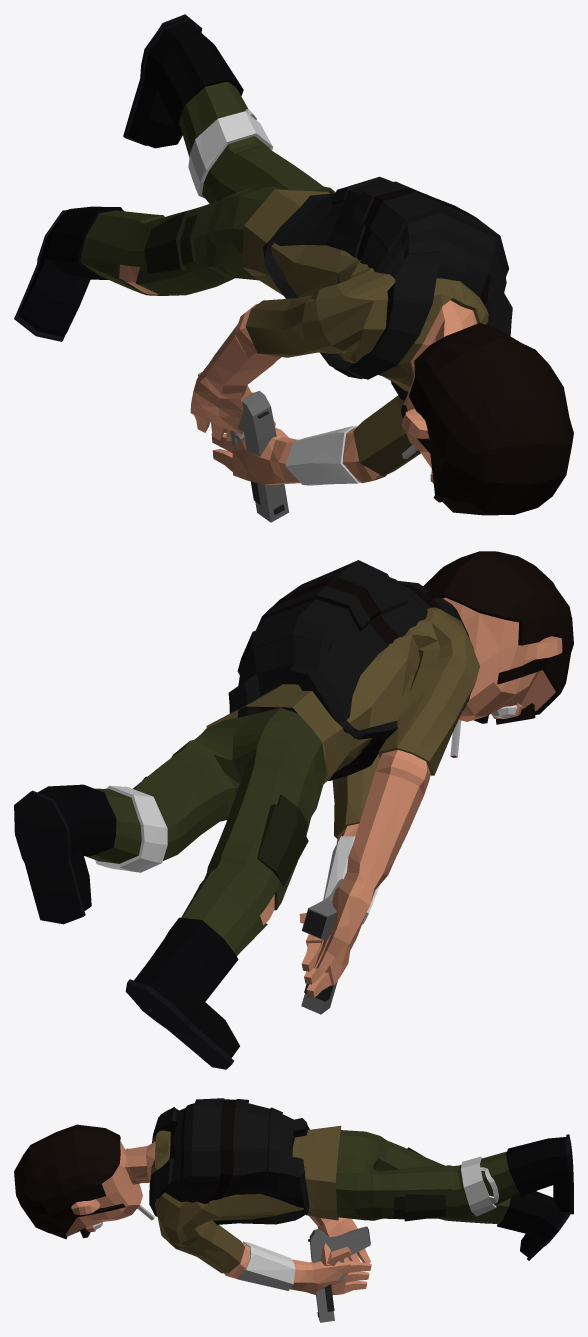
The model's file is frame_0059.obj.
3 renders of one model, top to bottom at view 1: azimuth 30°, elevation 25°; view 2: azimuth 150°, elevation 25°; view 3: azimuth 270°, elevation 25°, orthographic. The views are drawn at different scales.
Visible parts, largest first — view 1: Body, Gun; view 2: Body, Gun; view 3: Body, Gun.
Part boxes in pixels (left/top/right/bottom): Body: left=14, top=14, right=573, bottom=515; Gun: left=198, top=372, right=288, bottom=522; Body: left=14, top=551, right=573, bottom=1069; Gun: left=301, top=879, right=342, bottom=1014; Body: left=14, top=1098, right=573, bottom=1295; Gun: left=308, top=1226, right=370, bottom=1322.
Size of the model in its own units: 1.2 by 1.91 by 4.12.
